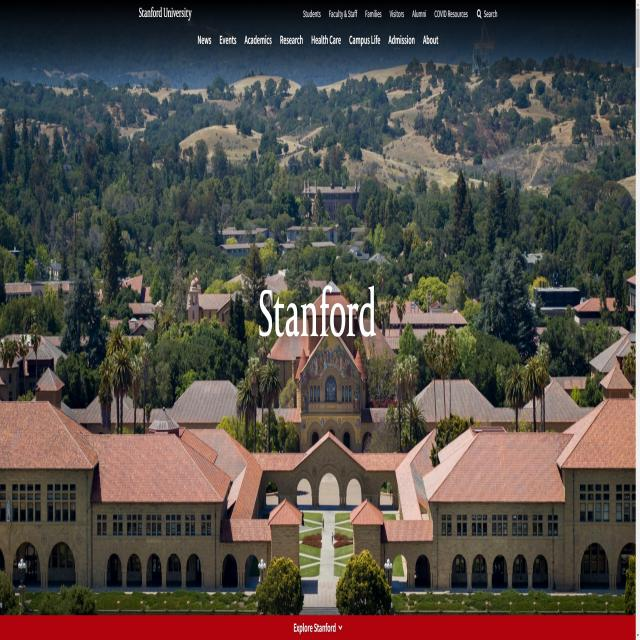menu-bar: (300, 4, 500, 23)
tab-bar: (197, 32, 443, 51)
